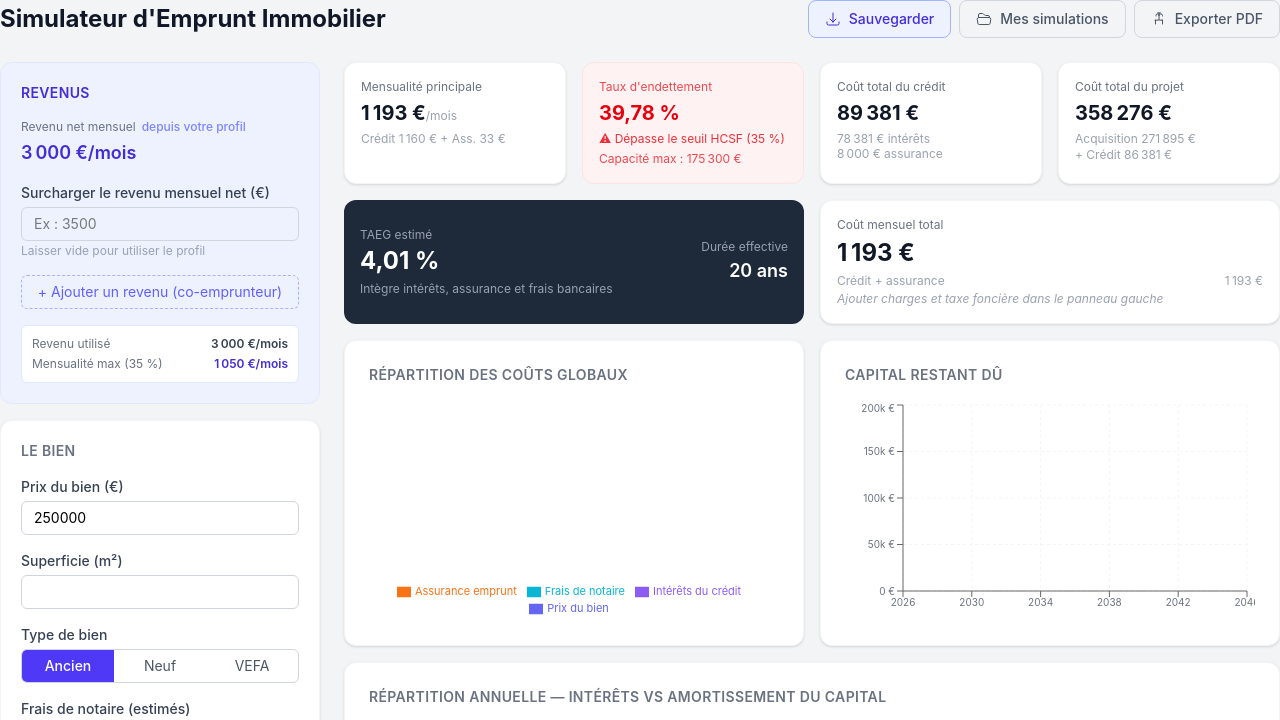
LoanSimulatorPage — gestion des simulations sauvegardées › ouvre la modal de sauvegarde au clic sur "Sauvegarder"
The width and height of the screenshot is (1280, 720).
What coordinates should you click on to do the following:
click the button "Sauvegarder"
I would click on:
 (880, 19)
Its box is [808,0,951,38].
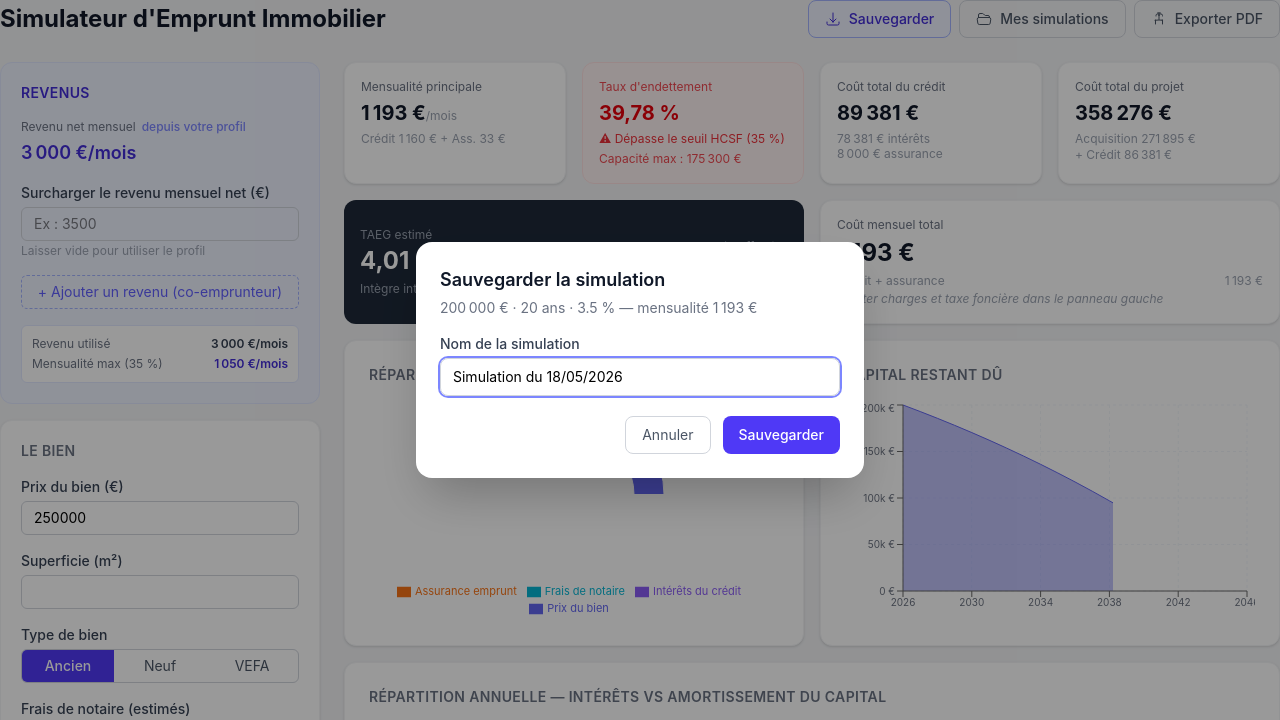
Expected: the heading "Sauvegarder la simulation" is shown, [440,269,665,290]
Expected: the field with placeholder "Ex : Appartement Paris 75011" is shown, [440,358,840,396]
